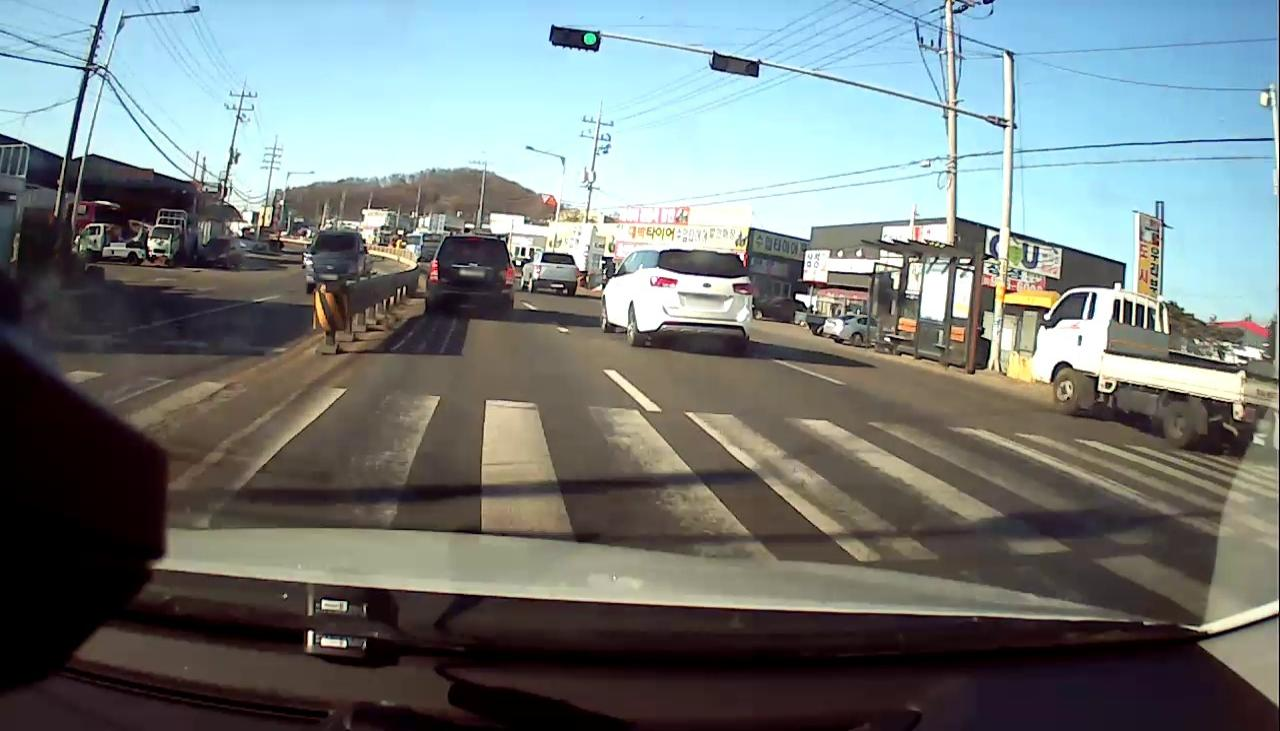Green Light: (580, 27, 600, 49)
